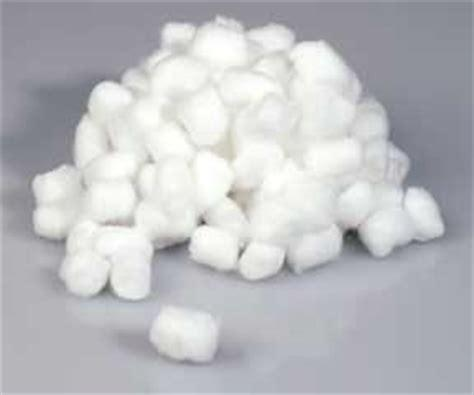cotton: (27, 16, 444, 294), (152, 309, 225, 366)
